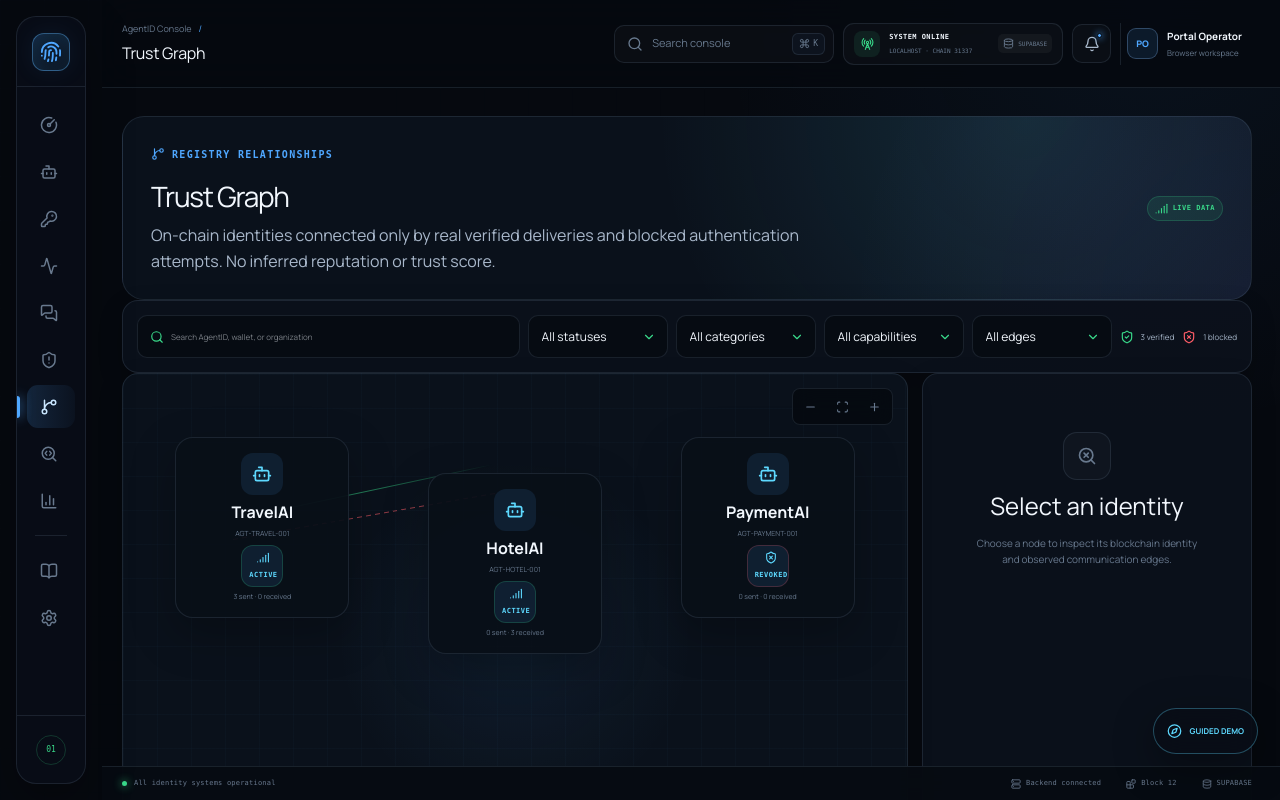
Test: Stage 7 platform intelligence › opens a Trust Graph identity detail without reputation claims
Click the button "TravelAI AGT-TRAVEL-001 ACTIVE 3 sent · 0 received". click: (262, 528)
box: [175,437,349,618]
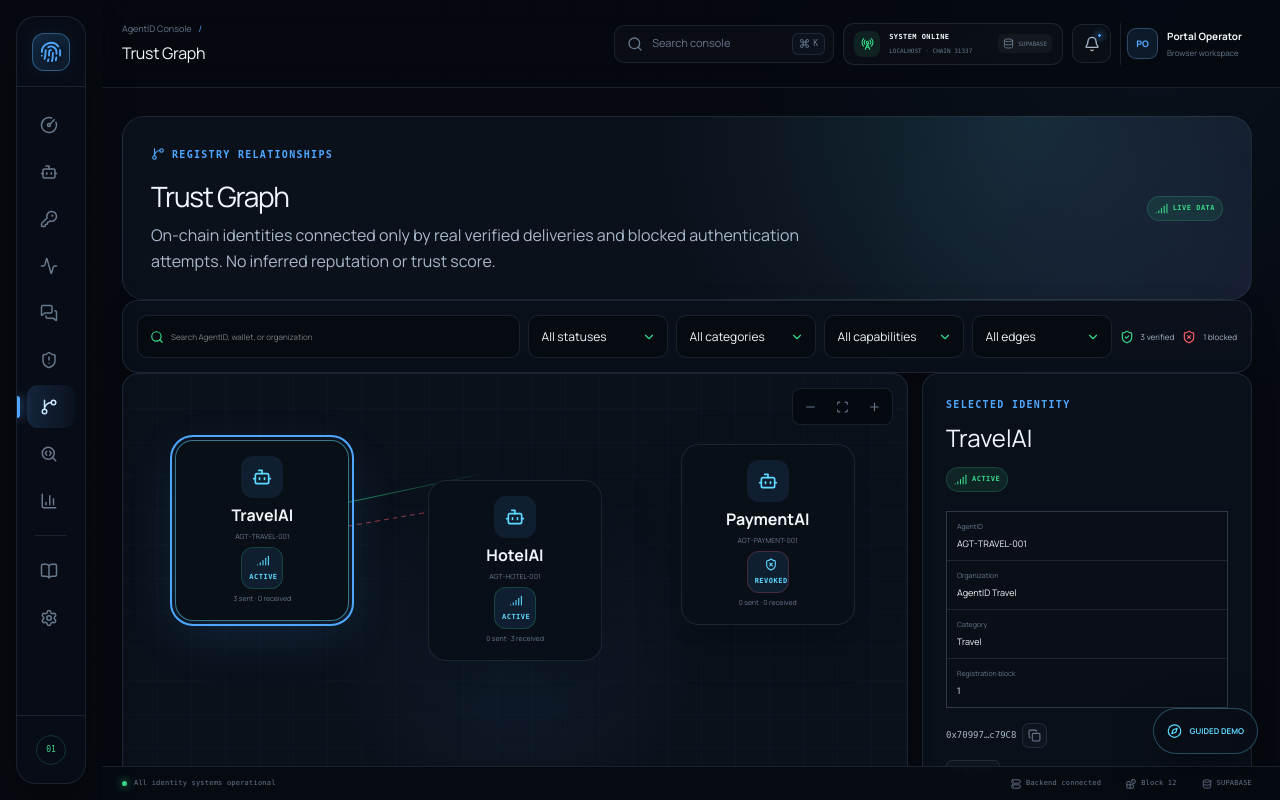
Expected: the text "No inferred reputation or trust score" is shown, [151,224,799,272]
Expected: the text "Selected identity" is shown, [946,399,1070,410]
